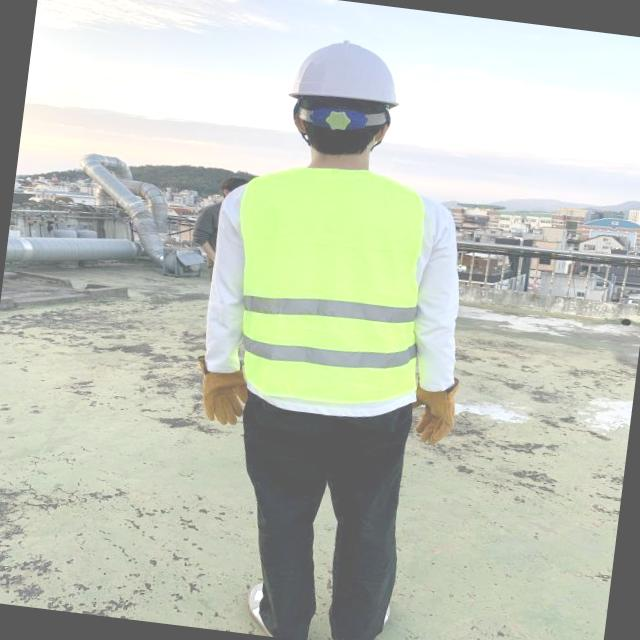vest: (220, 157, 443, 412)
